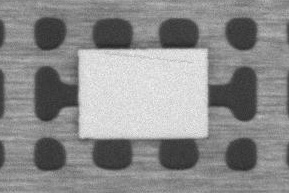DIE_CRACK: (157, 35, 289, 41)
